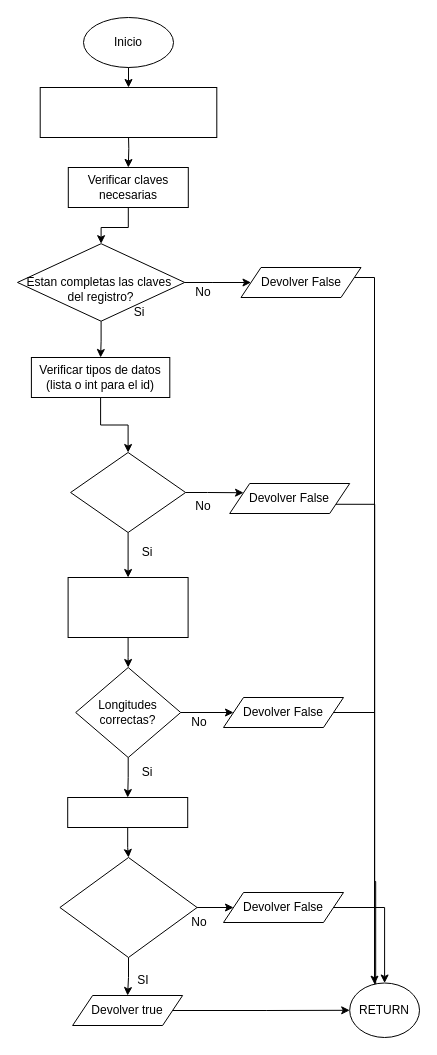
This 437x1055 diagram has some shape labels left out. Here are the shapes that lost their labels. From the top down, the centre of each, then its label:
At (x=128, y=112): "Recibe un registro ( id, tiempo, valor, fase, condicion, hit)".
At (x=128, y=492): "Tipos de datos correctos?".
At (x=127, y=607): "Verificar longitudes de listas (que coincidan)".
At (x=127, y=812): "Verificar tipos internos".
At (x=128, y=907): "Tipos de datos internos validos? (int, float, bool o str)".
